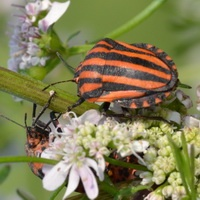insect: (75, 38, 185, 113)
